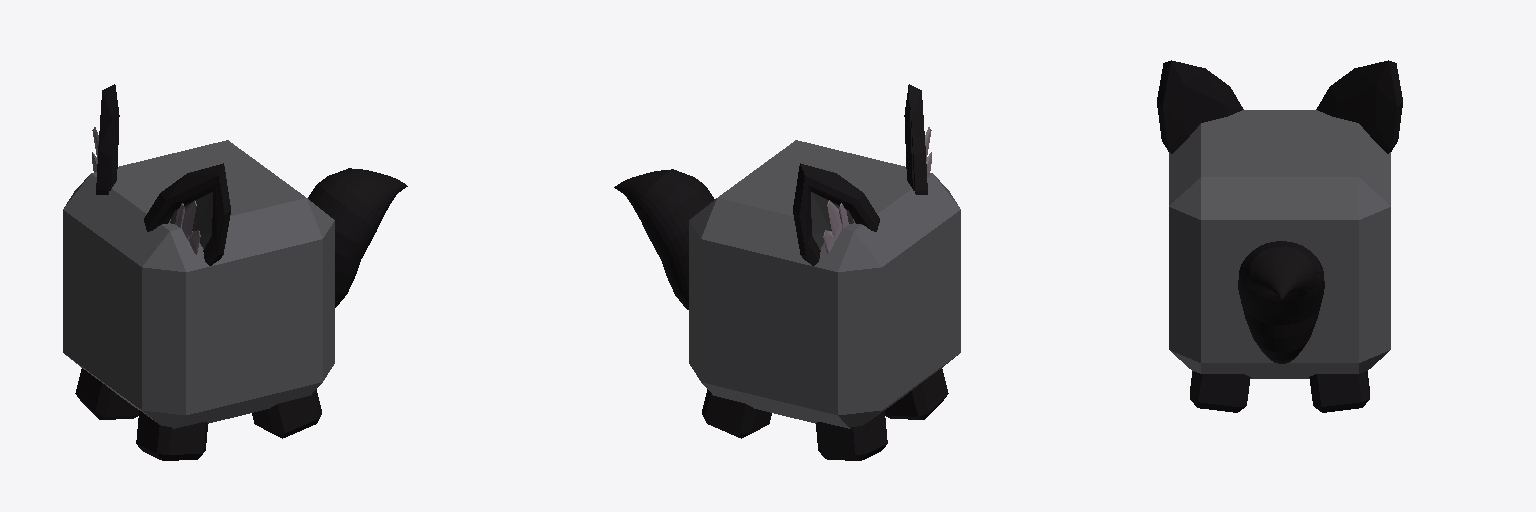
The model's file is Doggy.obj.
3 views of the same model, side by side, from view 1: azimuth 30°, elevation 25°; view 2: azimuth 150°, elevation 25°; view 3: azimuth 270°, elevation 25° (orthographic).
Parts seen in each view (by area): view 1: Meshes100kcube1, Meshes100kcube0031, Meshescloudvert0011, Meshpart2, Meshpart1, Meshpart3, Meshpart4; view 2: Meshes100kcube1, Meshes100kcube0031, Meshescloudvert0011, Meshpart2, Meshpart1, Meshpart3, Meshpart4; view 3: Meshes100kcube1, Meshpart1, Meshescloudvert0011, Meshes100kcube0031.
Boxes of the visible parts, x1=… form: Meshes100kcube1: x1=63, y1=140, x2=334, y2=428; Meshes100kcube0031: x1=75, y1=368, x2=321, y2=460; Meshescloudvert0011: x1=308, y1=168, x2=407, y2=307; Meshpart2: x1=96, y1=84, x2=224, y2=265; Meshpart1: x1=109, y1=85, x2=230, y2=265; Meshpart3: x1=92, y1=127, x2=200, y2=254; Meshpart4: x1=170, y1=192, x2=212, y2=248; Meshes100kcube1: x1=689, y1=140, x2=960, y2=428; Meshes100kcube0031: x1=702, y1=368, x2=948, y2=460; Meshescloudvert0011: x1=614, y1=169, x2=714, y2=309; Meshpart2: x1=799, y1=84, x2=927, y2=265; Meshpart1: x1=793, y1=85, x2=914, y2=265; Meshpart3: x1=823, y1=127, x2=931, y2=254; Meshpart4: x1=811, y1=192, x2=853, y2=248; Meshes100kcube1: x1=1169, y1=110, x2=1390, y2=378; Meshpart1: x1=1157, y1=60, x2=1402, y2=153; Meshescloudvert0011: x1=1238, y1=241, x2=1324, y2=363; Meshes100kcube0031: x1=1190, y1=371, x2=1369, y2=412.
Size of the model in its own units: 2.84 by 2.72 by 1.98.